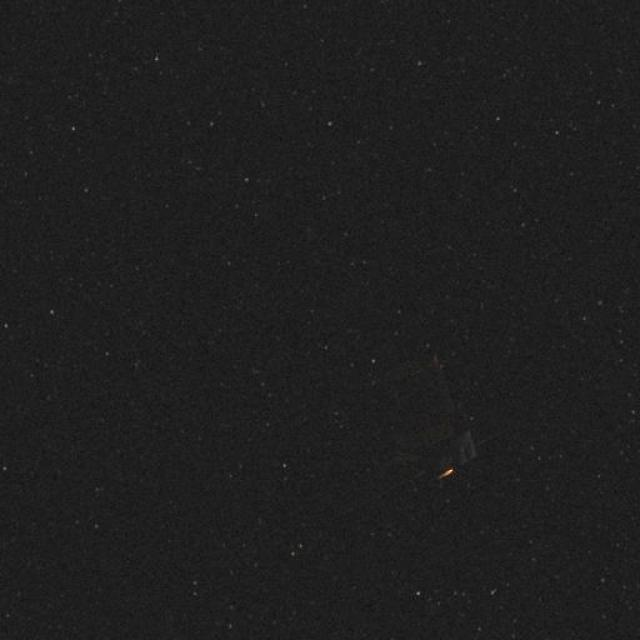soho: (318, 340, 496, 486)
